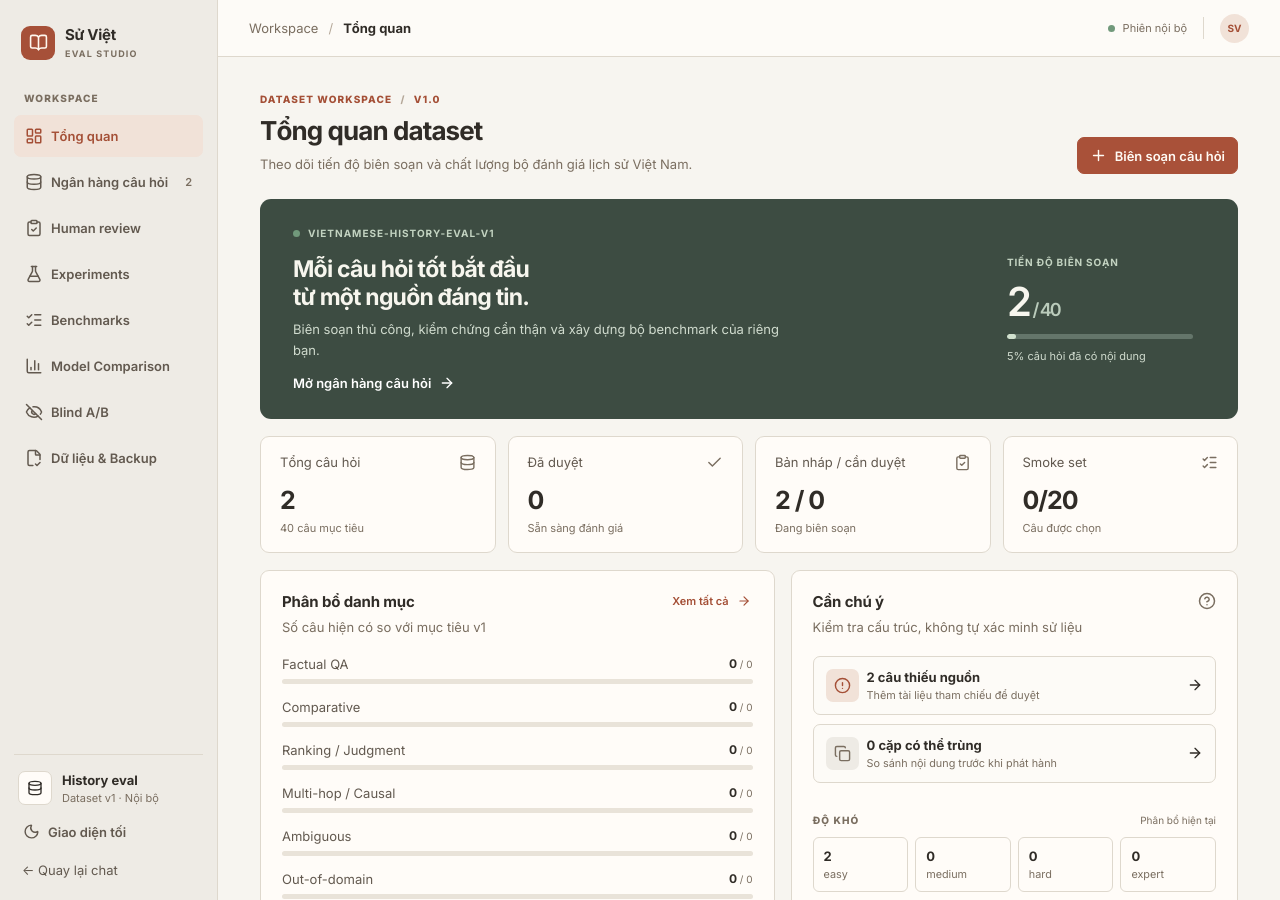
Test: autosave drains edits made during an in-flight save before question navigation
Expected: the heading "Tổng quan dataset" is shown, [260,115,482,146]
Click the button "Ngân hàng câu hỏi 2" at (108, 182), box [14,161,203,203]
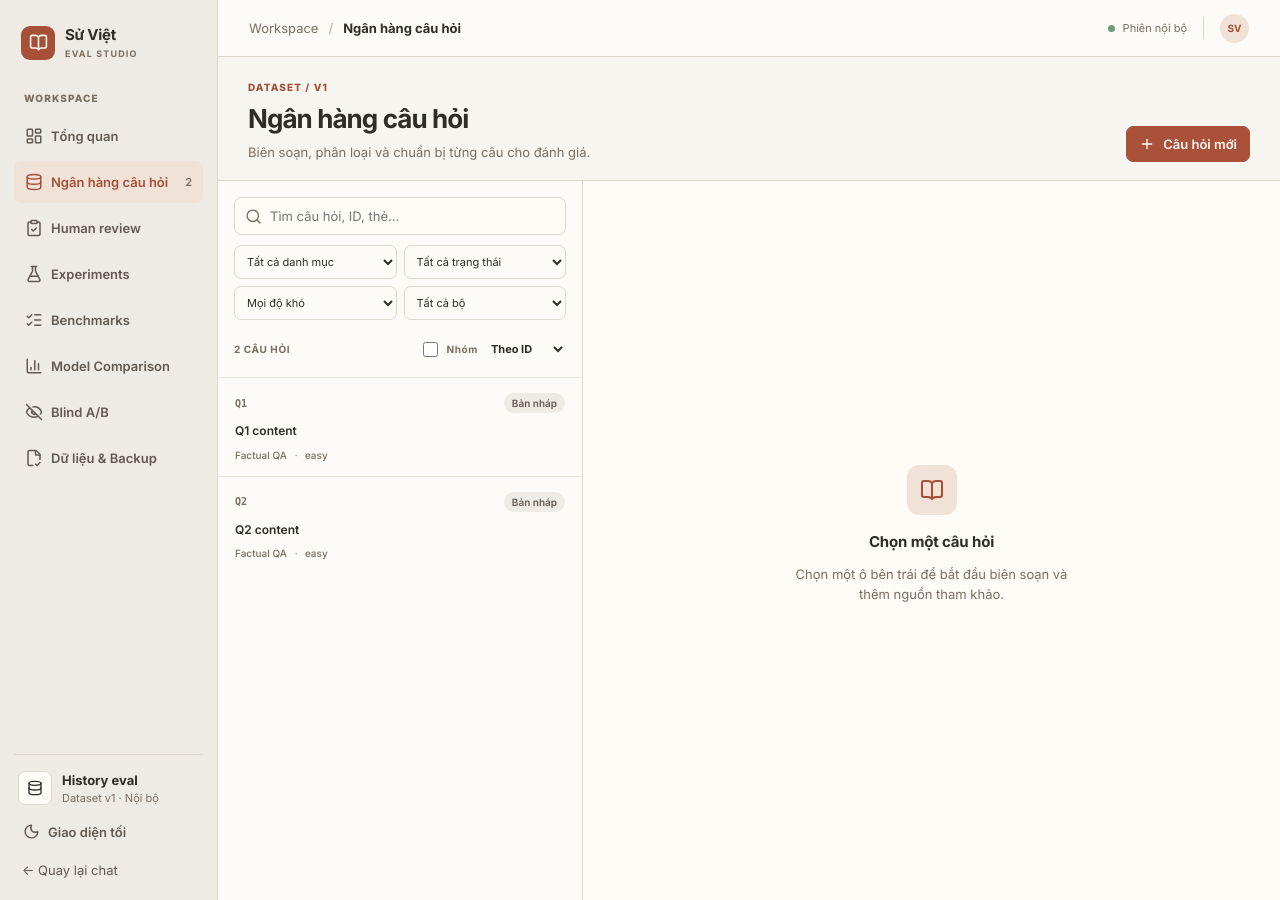
Now the heading "Ngân hàng câu hỏi" is shown, box [248,103,468,134]
Click the button "Q1 Bản nháp Q1 content Factual QA easy" at (534, 403), box [218,377,582,476]
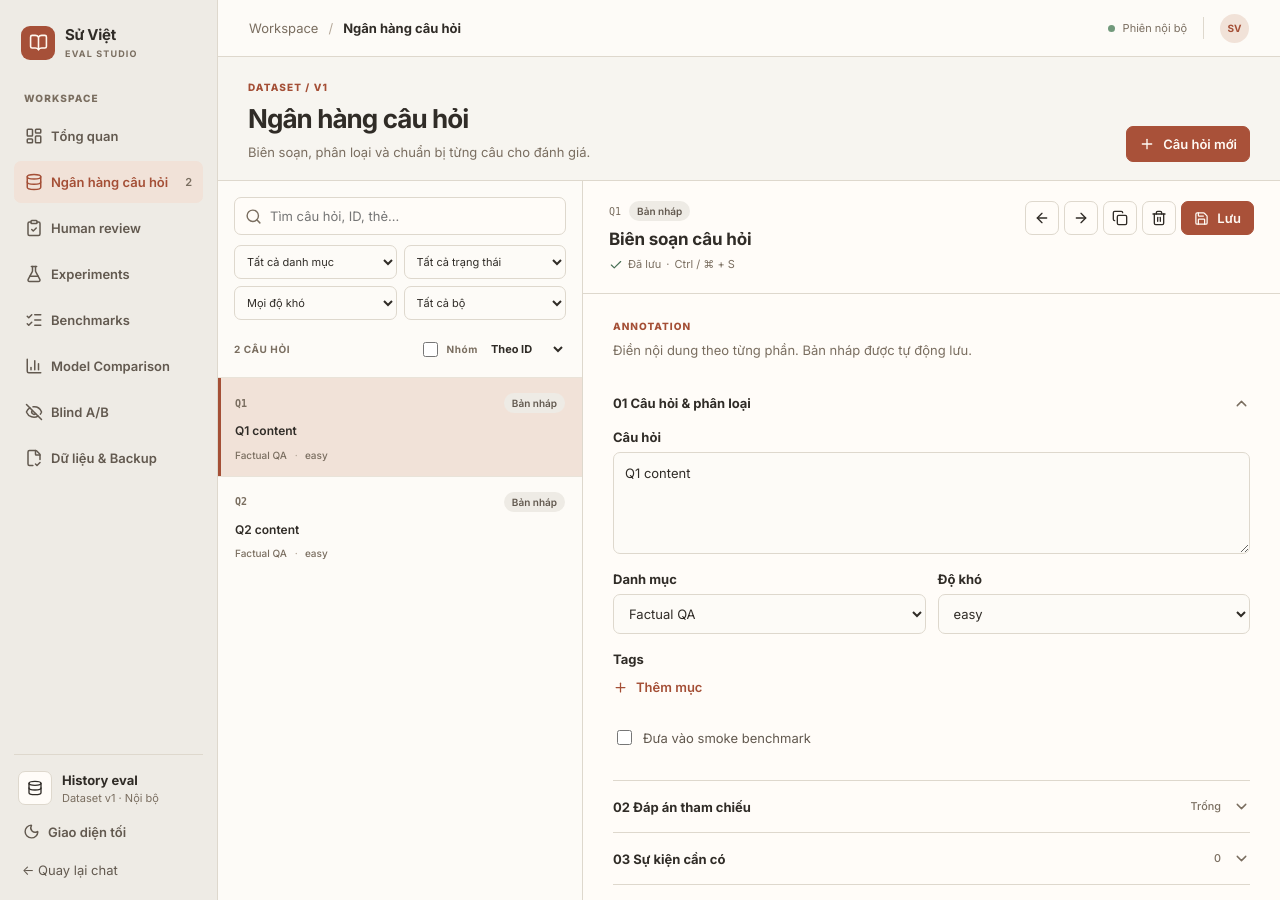
Replace the text in the text box labelled "Câu hỏi" with "First edit" at (932, 503), box [613,452,1250,554]
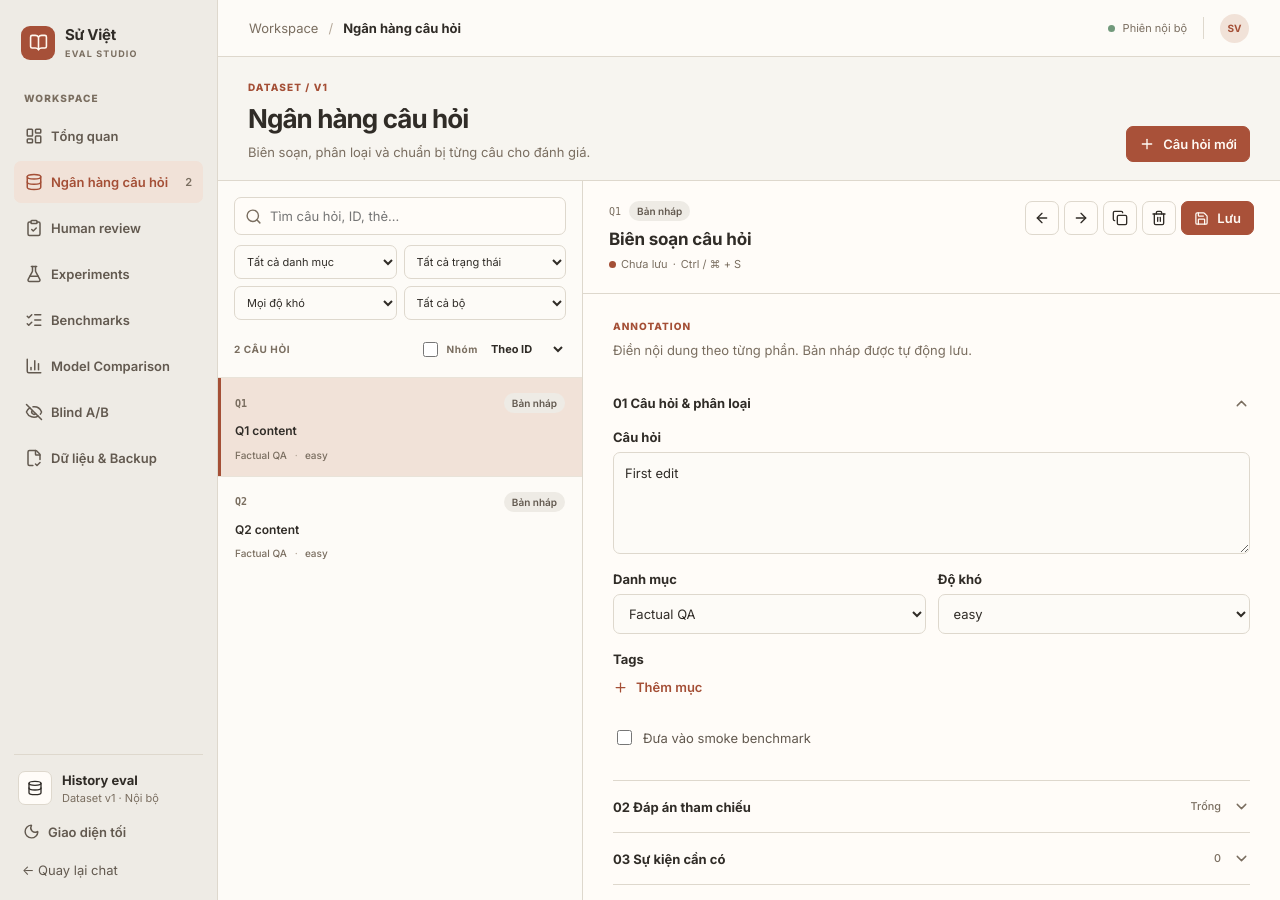
Press s
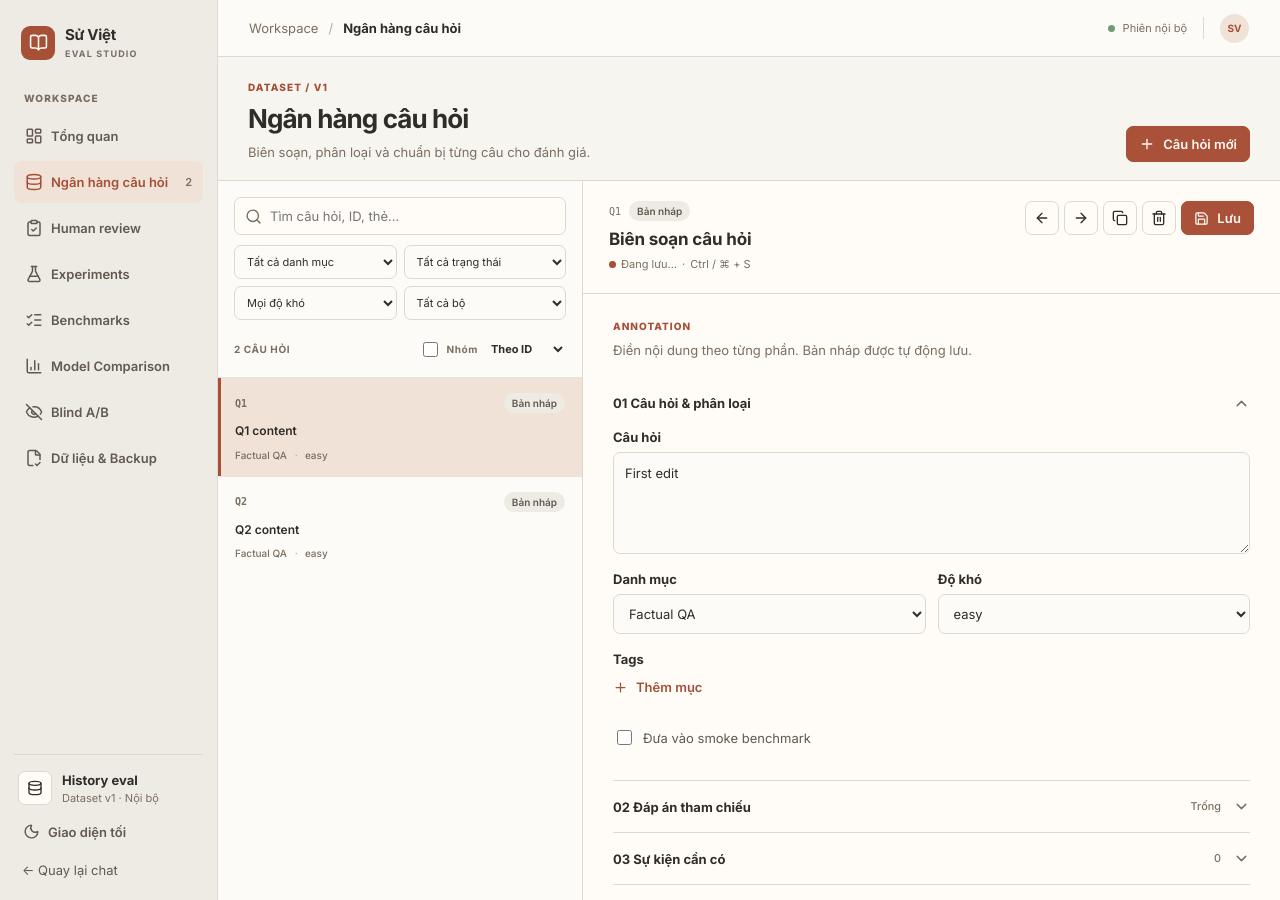
Replace the text in the text box labelled "Câu hỏi" with "Final edit" at (932, 503), box [613,452,1250,554]
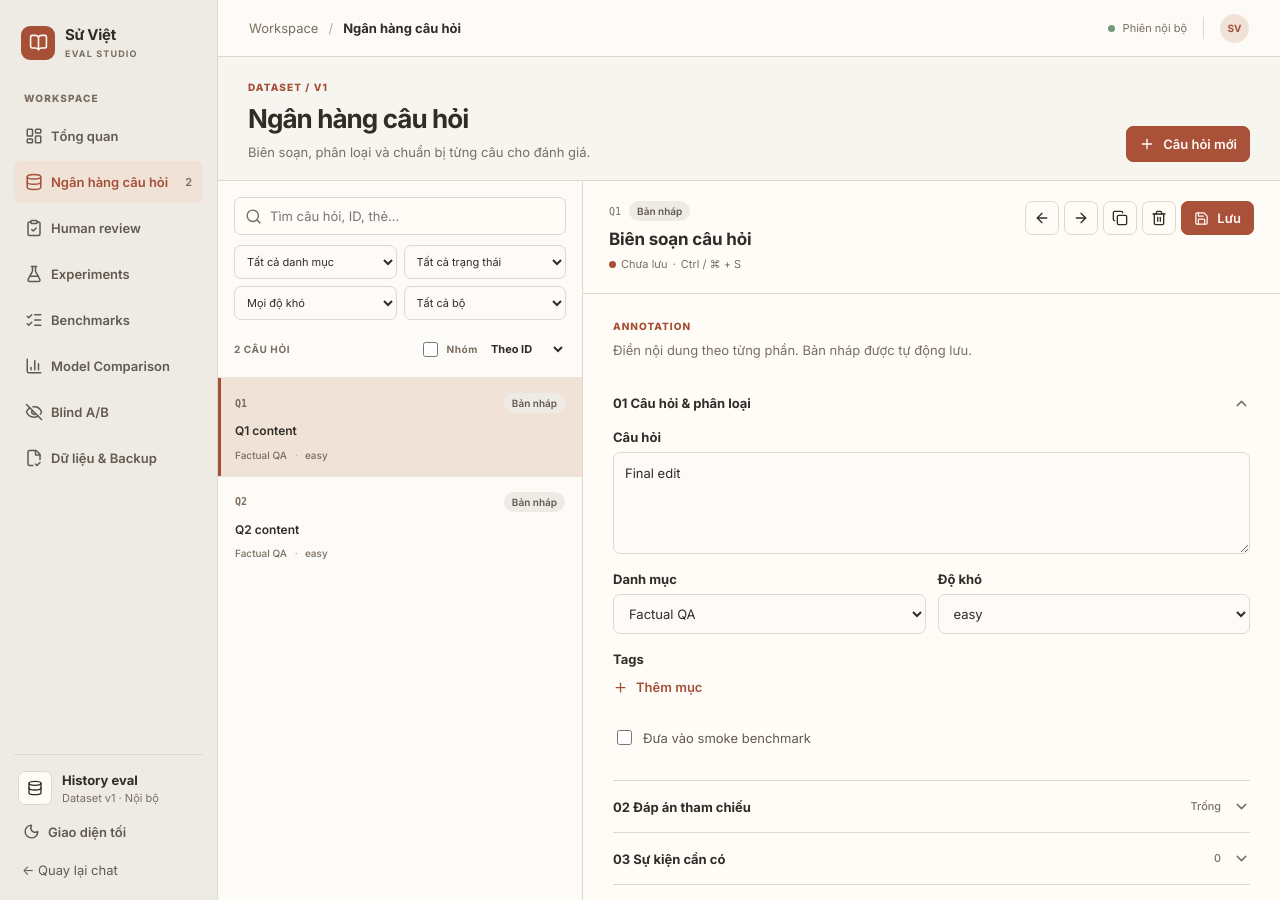
Click the button named "Câu sau" at (1081, 218), box [1064,201,1098,235]
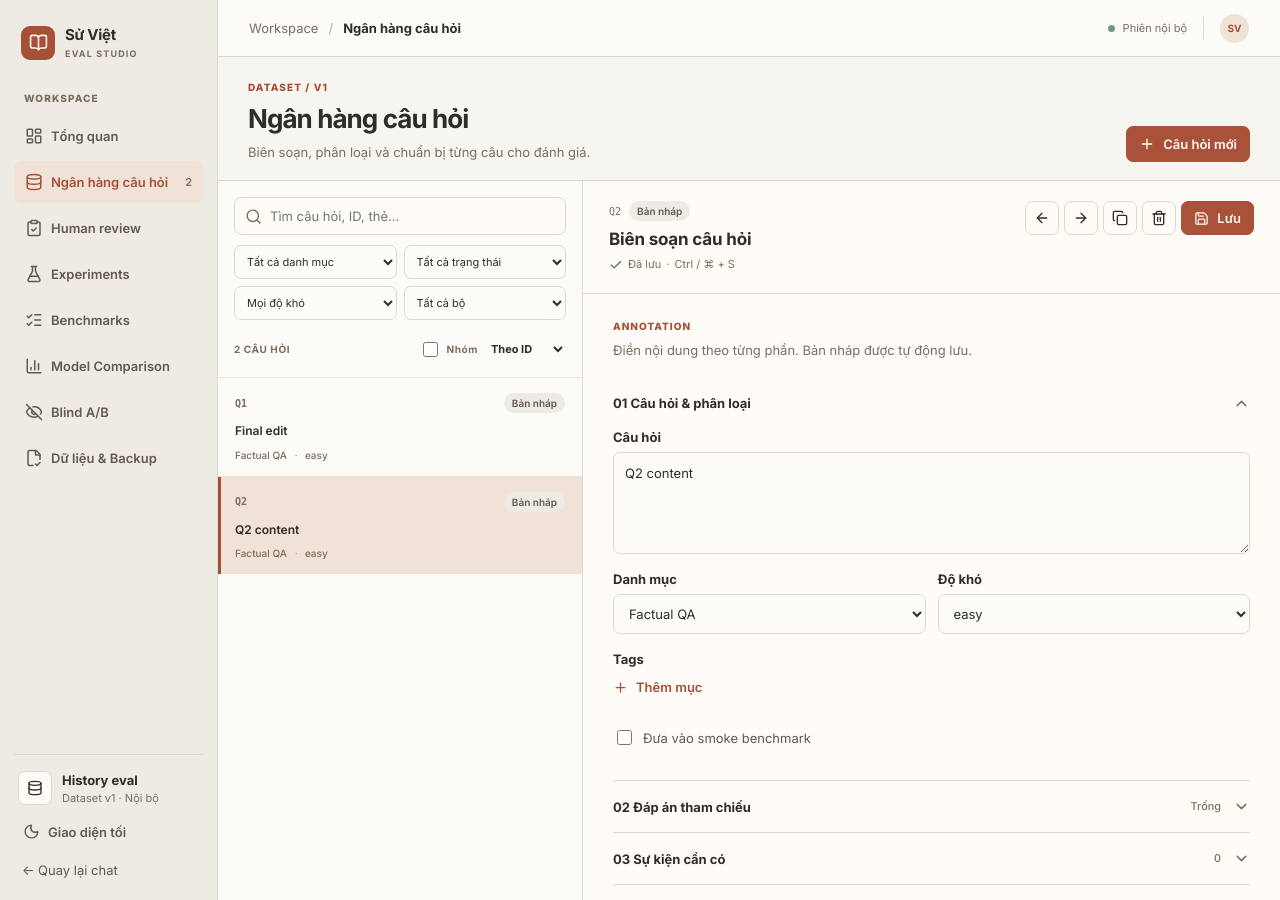
Now the text box labelled "Câu hỏi" holds "Q2 content", box [613,452,1250,554]
Now the text "Final edit" is shown, box [235,423,288,438]
